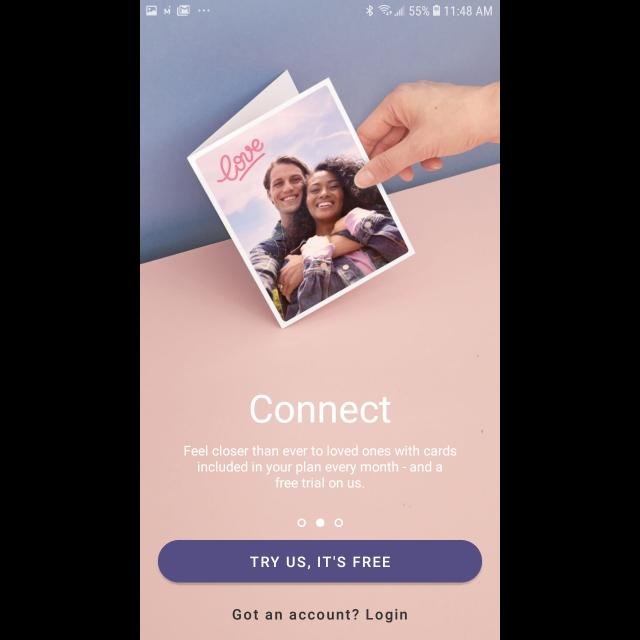backgroundimage: (140, 18, 500, 640)
image: (186, 70, 500, 330)
pageindicator: (298, 518, 344, 528)
text: (185, 444, 457, 488), (250, 394, 390, 424), (232, 609, 408, 623)
textbutton: (158, 540, 482, 584)
uppertaskbar: (140, 1, 500, 18)
